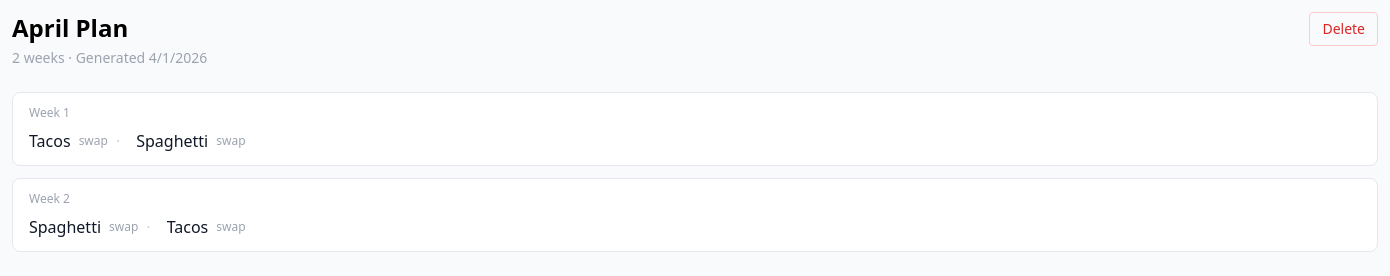
Test: PlanDetailPage › shows a meal select when swap is clicked
The width and height of the screenshot is (1390, 276).
Click the 1st button "swap": (93, 141) [79, 133, 108, 149]
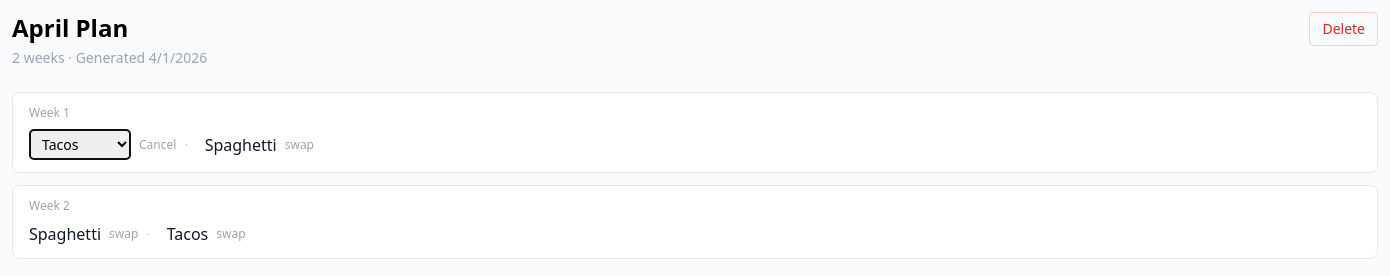
Expected: the dropdown is shown, [29, 129, 131, 160]
